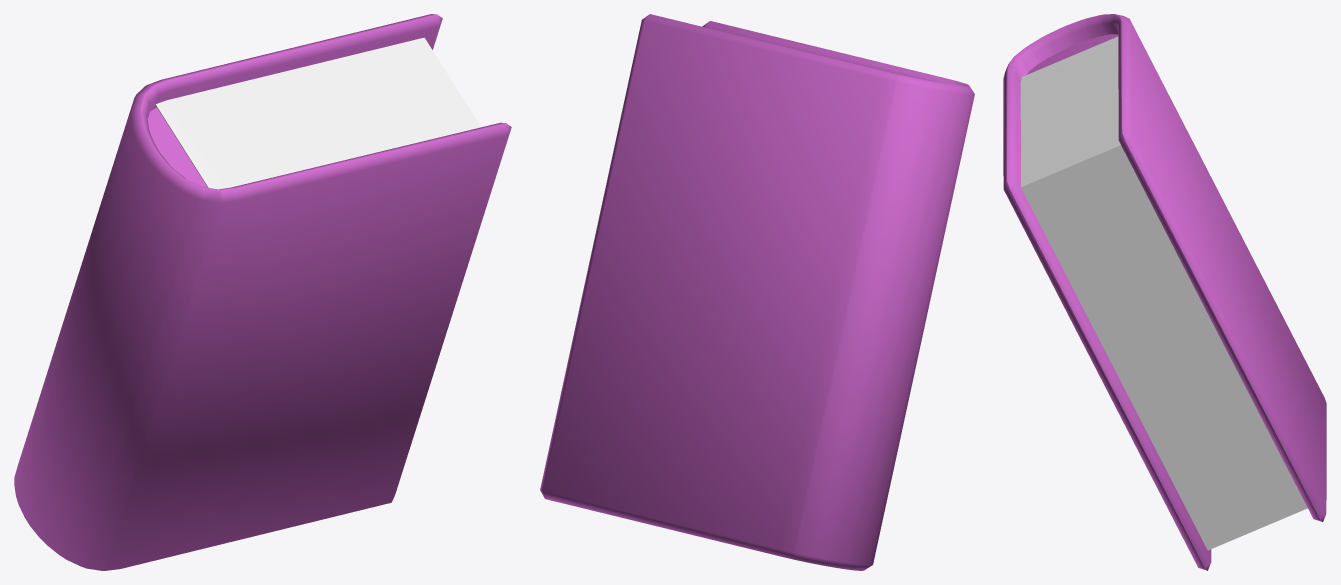
The model's file is book-purple.fbx.
The picture shows the model from 3 angles, left to right: view 1: azimuth 30°, elevation 25°; view 2: azimuth 150°, elevation 25°; view 3: azimuth 270°, elevation 25°; orthographic projection. The views are drawn at different scales.
Parts seen in each view (by area): view 1: Book; view 2: Book; view 3: Book.
Boxes of the visible parts, x1,y1,x2,y2 form: Book: [14, 14, 511, 570]; Book: [540, 14, 974, 570]; Book: [1003, 14, 1326, 570].
Bounding box in the file's own units: 82.35 × 124 × 82.73.
1 material, 1 textured.
